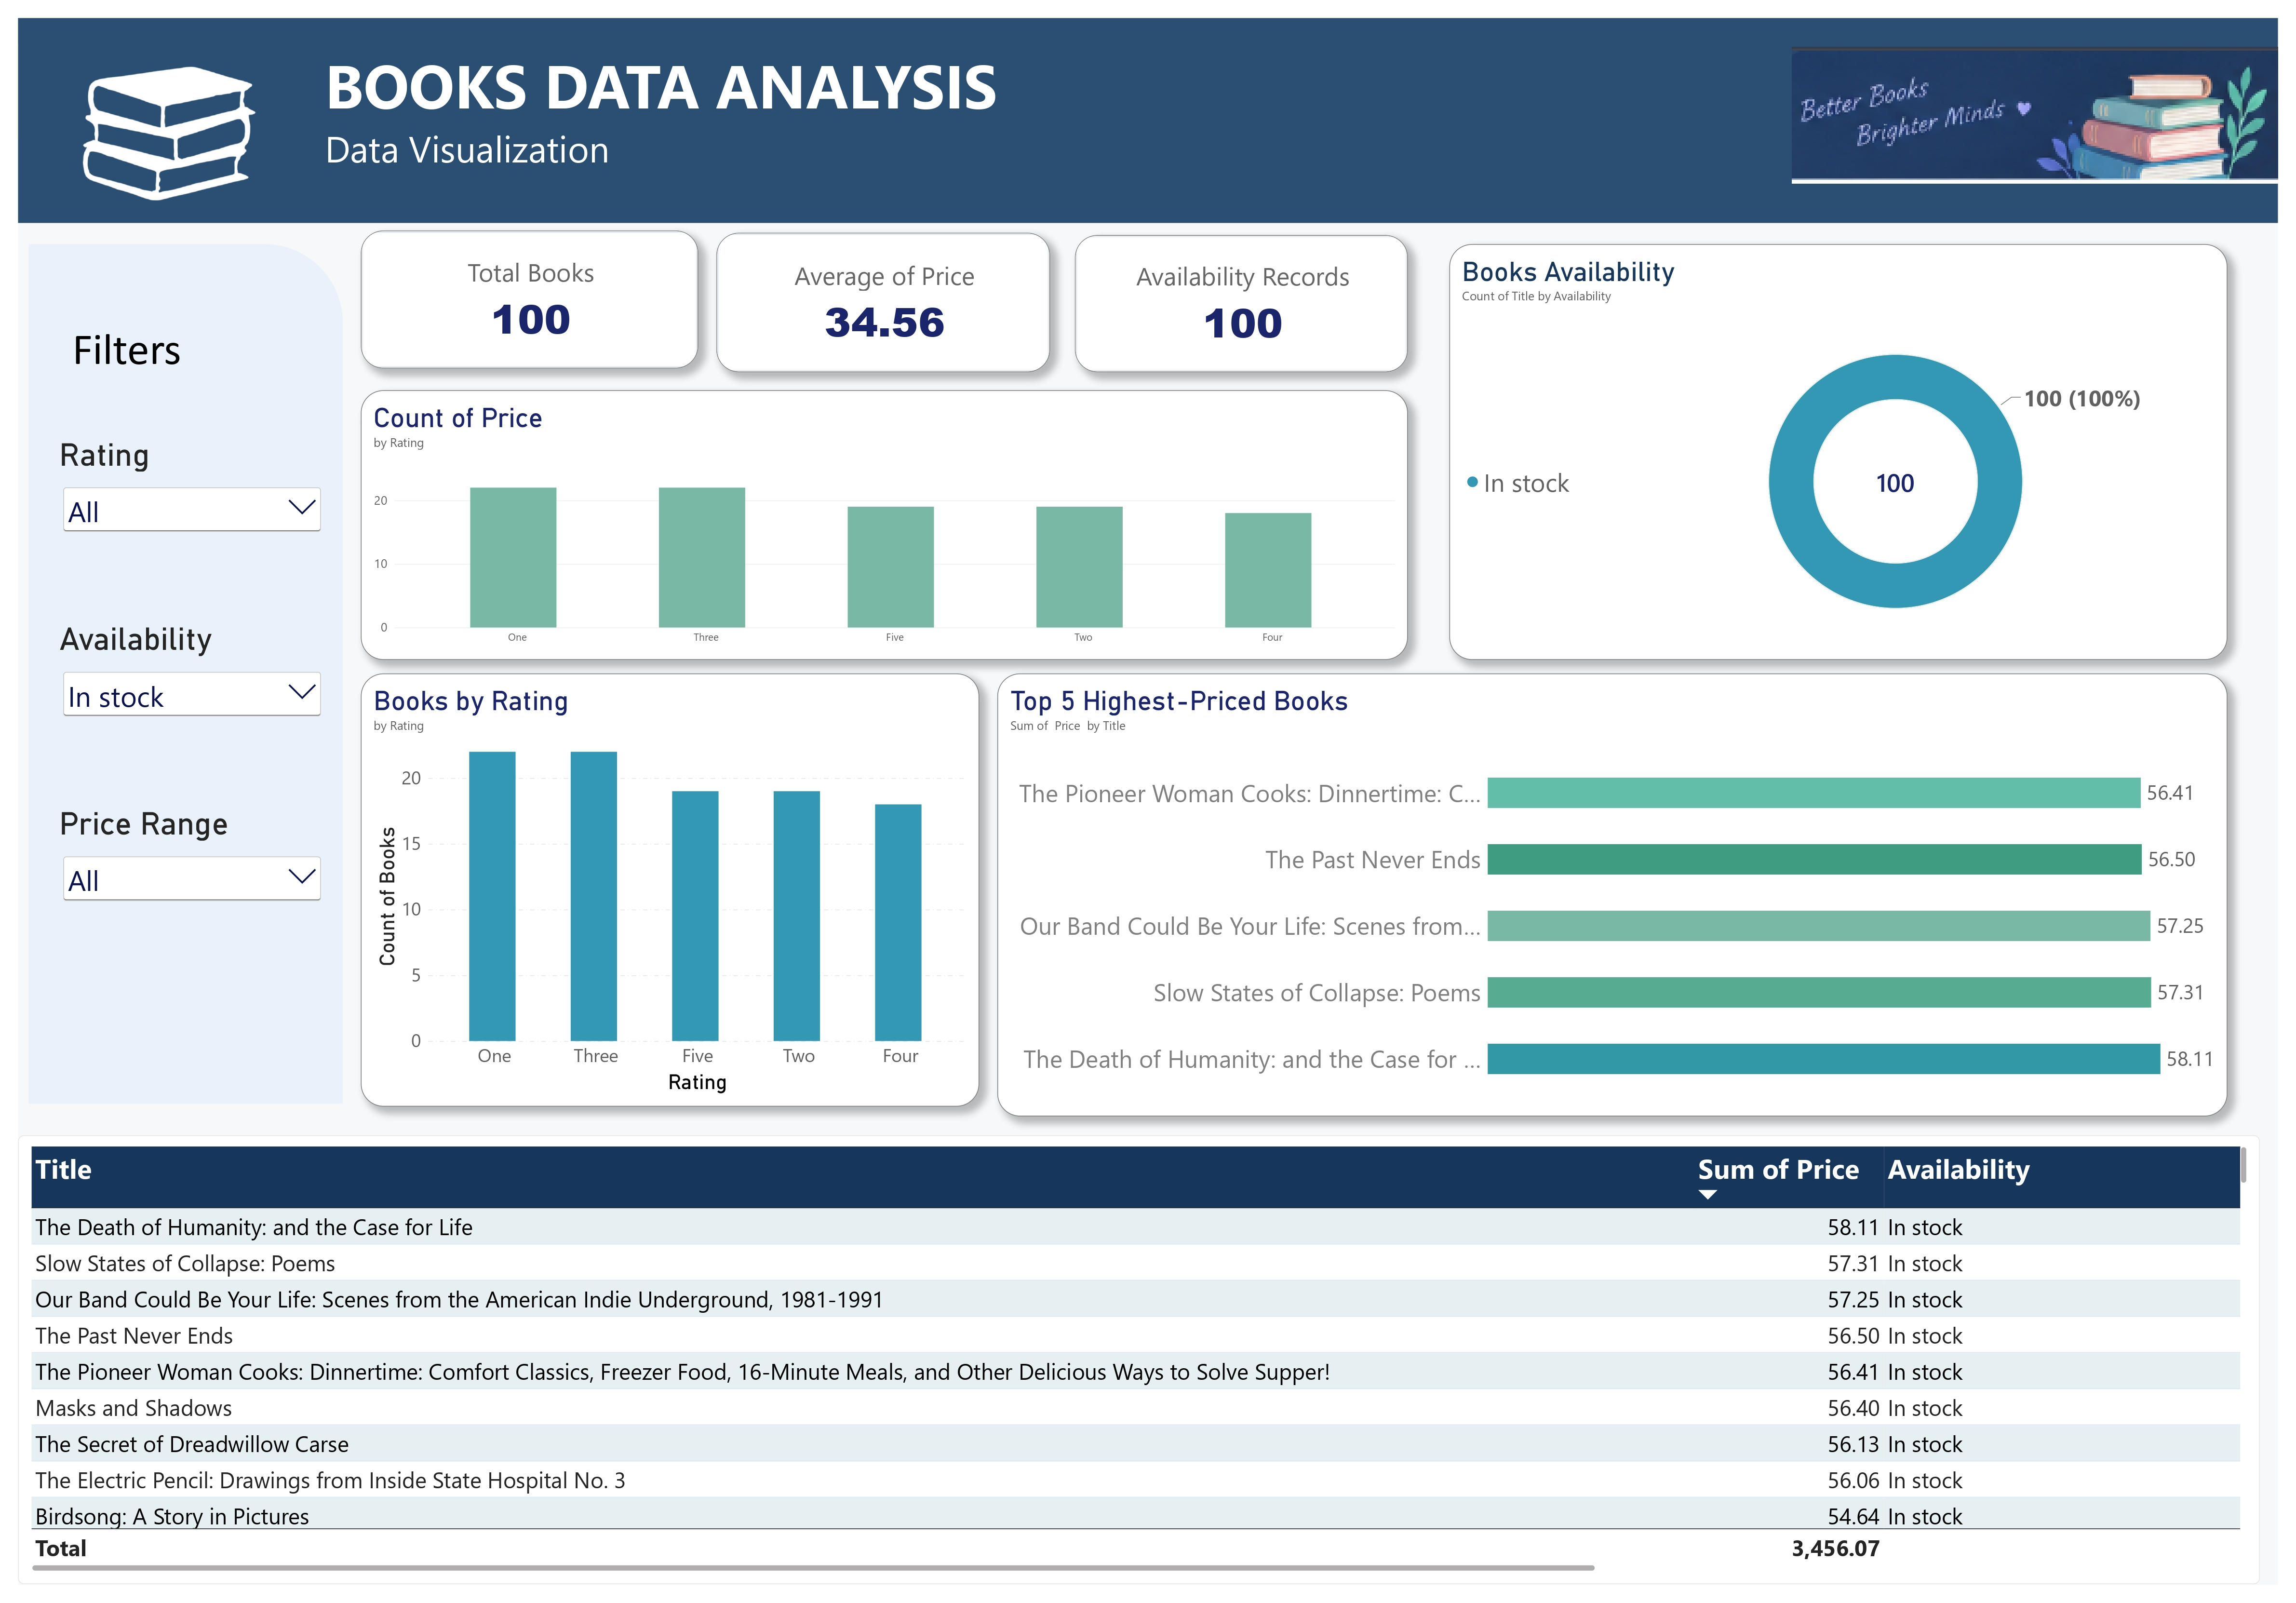

The page's visual inventory and layout, read from the dashboard file:
{"tool":"powerbi","page":{"name":"Page 1","canvas":[3000,2080],"ordinal":0},"visuals":[{"type":"clusteredColumnChart","fields":{"Category":["books_dataset.Rating"],"Y":["CountNonNull(books_dataset. Price )"]},"box":[454.8,493.5,1390.3,358.1],"z":0},{"type":"shape","box":[13.8,300,417.2,1141.4],"z":1000},{"type":"slicer","title":"Rating","fields":{"Values":["books_dataset.Rating"]},"box":[55.2,555.2,351.7,175.9],"z":2000},{"type":"slicer","title":"Availability","fields":{"Values":["books_dataset.Availability"]},"box":[55.2,800,351.7,186.2],"z":3000},{"type":"slicer","title":"Price Range","fields":{"Values":["books_dataset. Price "]},"box":[55.2,1044.8,351.7,165.5],"z":4000},{"type":"textbox","title":"BOOKS DATA ANALYSIS","box":[0,0,3000,272.4],"z":5000},{"type":"image","box":[41.4,34.5,317.2,237.9],"z":6000},{"type":"textbox","box":[406.9,34.5,996.6,206.9],"z":7000},{"type":"image","box":[2355.2,17.2,644.8,224.1],"z":8000},{"type":"cardVisual","fields":{"Data":["CountNonNull(books_dataset.Availability)"]},"box":[1403,287.9,442.4,181.8],"z":9000},{"type":"cardVisual","fields":{"Data":["Avg(books_dataset. Price )"]},"box":[927.3,284.8,442.4,184.8],"z":10000},{"type":"cardVisual","fields":{"Data":["CountNonNull(books_dataset.Title)"]},"box":[454.5,281.8,448.3,182.8],"z":11000},{"type":"textbox","box":[72.4,403.4,382.8,124.1],"z":12000},{"type":"clusteredColumnChart","fields":{"Category":["books_dataset.Rating"],"Y":["CountNonNull(books_dataset.Title)"]},"box":[454.5,869.7,821.2,575.8],"z":13000},{"type":"donutChart","title":"Books Availability","fields":{"Category":["books_dataset.Availability"],"Y":["CountNonNull(books_dataset.Title)"]},"box":[1900,300,1033.3,551.5],"z":14000},{"type":"clusteredBarChart","title":"Top 5 Highest-Priced Books","fields":{"Category":["books_dataset.Title"],"Y":["Sum(books_dataset. Price )"]},"box":[1300,869.7,1633.3,587.9],"z":15000},{"type":"tableEx","fields":{"Values":["books_dataset.Title","Sum(books_dataset. Price )","books_dataset.Availability"]},"box":[0,1482.8,2975.9,596.6],"z":16000}]}

Visuals, with their boxes on the page's 3000x2080 design canvas (x1, y1, x2, y2). These are canvas units, not pixel positions in the 2296x1603 screenshot, which may show the page scaled, cropped or inside an application window:
clusteredColumnChart - books_dataset.Rating x CountNonNull(books_dataset. Price ): [x1=455, y1=494, x2=1845, y2=852]
shape: [x1=14, y1=300, x2=431, y2=1441]
"Rating" slicer: [x1=55, y1=555, x2=407, y2=731]
"Availability" slicer: [x1=55, y1=800, x2=407, y2=986]
"Price Range" slicer: [x1=55, y1=1045, x2=407, y2=1210]
"BOOKS DATA ANALYSIS" textbox: [x1=0, y1=0, x2=3000, y2=272]
image: [x1=41, y1=34, x2=359, y2=272]
textbox: [x1=407, y1=34, x2=1404, y2=241]
image: [x1=2355, y1=17, x2=3000, y2=241]
cardVisual - CountNonNull(books_dataset.Availability): [x1=1403, y1=288, x2=1845, y2=470]
cardVisual - Avg(books_dataset. Price ): [x1=927, y1=285, x2=1370, y2=470]
cardVisual - CountNonNull(books_dataset.Title): [x1=454, y1=282, x2=903, y2=465]
textbox: [x1=72, y1=403, x2=455, y2=528]
clusteredColumnChart - books_dataset.Rating x CountNonNull(books_dataset.Title): [x1=454, y1=870, x2=1276, y2=1446]
"Books Availability" donutChart: [x1=1900, y1=300, x2=2933, y2=852]
"Top 5 Highest-Priced Books" clusteredBarChart: [x1=1300, y1=870, x2=2933, y2=1458]
tableEx - books_dataset.Title x Sum(books_dataset. Price ): [x1=0, y1=1483, x2=2976, y2=2079]
